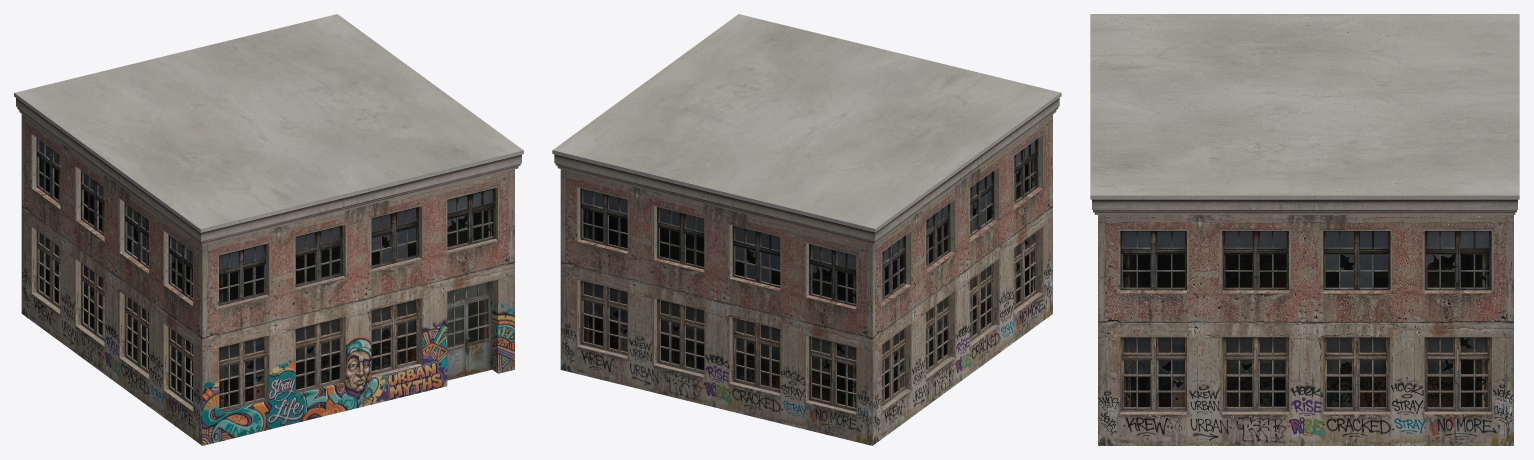
The model's file is abadoned_building__lowpoly.glb.
3 renders of one model, left to right at view 1: azimuth 30°, elevation 25°; view 2: azimuth 150°, elevation 25°; view 3: azimuth 270°, elevation 25°, orthographic. The views are drawn at different scales.
Visible parts, largest first — view 1: building_building 1_0_building_1, building_concrete_0_concrete, building_building 1 side_0_building_1_side; view 2: building_building 1 side_0_building_1_side, building_concrete_0_concrete, building_building 1_0_building_1; view 3: building_building 1 side_0_building_1_side, building_concrete_0_concrete, building_building 1_0_building_1.
Boxes of the visible parts, x1,y1,x2,y2 form: building_building 1_0_building_1: [14, 93, 523, 445]; building_concrete_0_concrete: [14, 14, 523, 229]; building_building 1 side_0_building_1_side: [21, 114, 202, 445]; building_building 1 side_0_building_1_side: [560, 114, 1052, 445]; building_concrete_0_concrete: [553, 14, 1060, 228]; building_building 1_0_building_1: [552, 93, 1061, 405]; building_building 1 side_0_building_1_side: [1098, 215, 1513, 445]; building_concrete_0_concrete: [1090, 14, 1519, 195]; building_building 1_0_building_1: [1090, 195, 1519, 214].
Size of the model in its own units: 19.68 by 12.82 by 19.66.
Materials: 3 (3 with a texture image).
